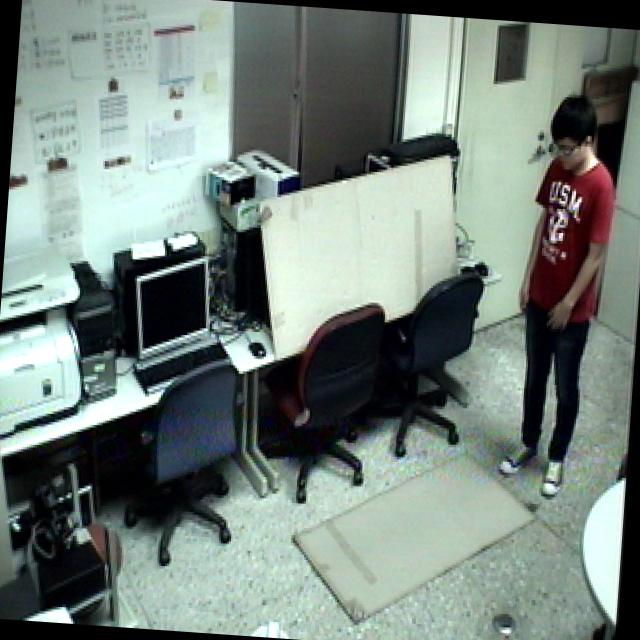stand: (493, 85, 630, 506)
